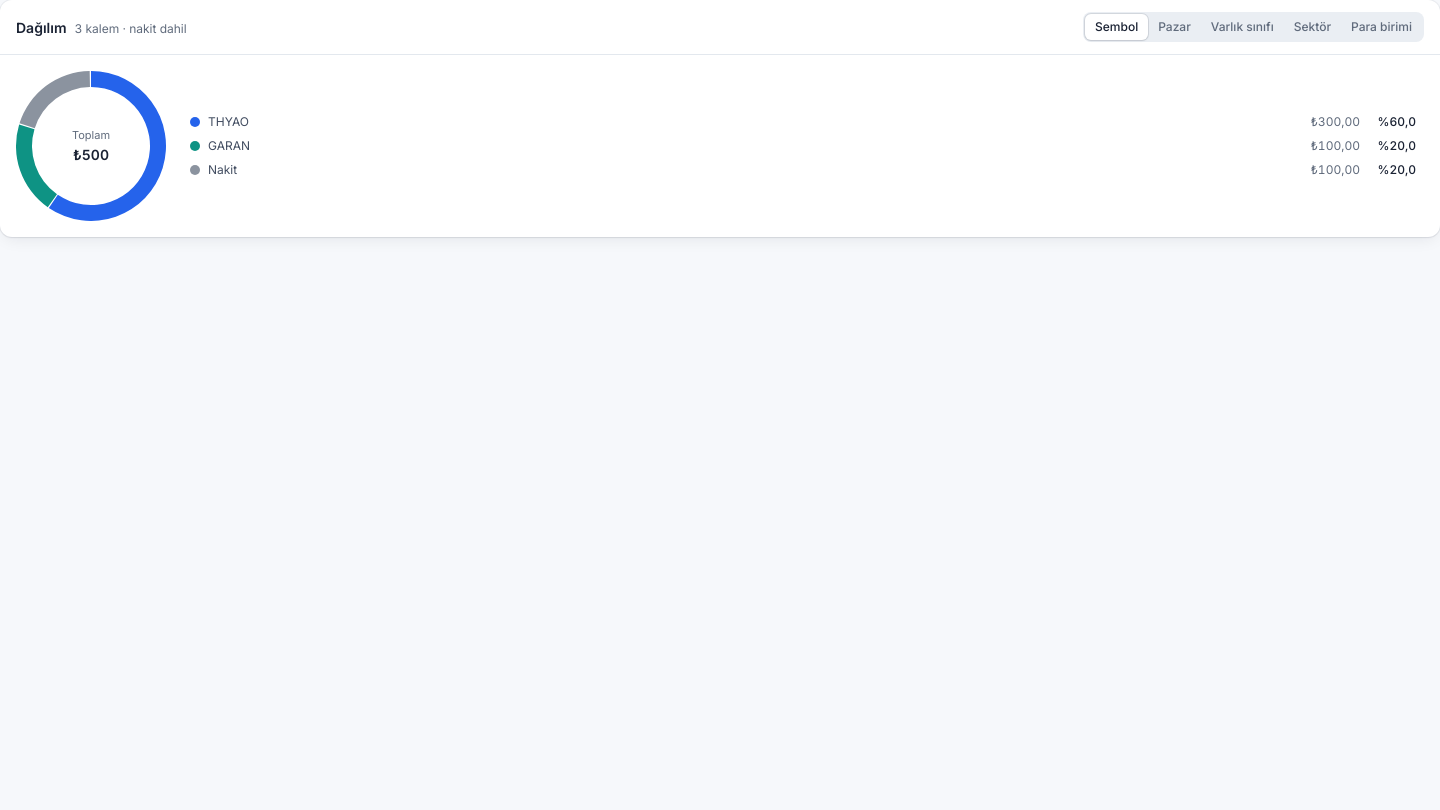
Test case: Allocation › shows the target and drift in the asset class view and opens the target dialog
The image size is (1440, 810).
Check: the button "Hedef belirle" is not shown
Click the radio button labelled "Varlık sınıfı".
click(1242, 27)  # box [1201, 14, 1284, 40]
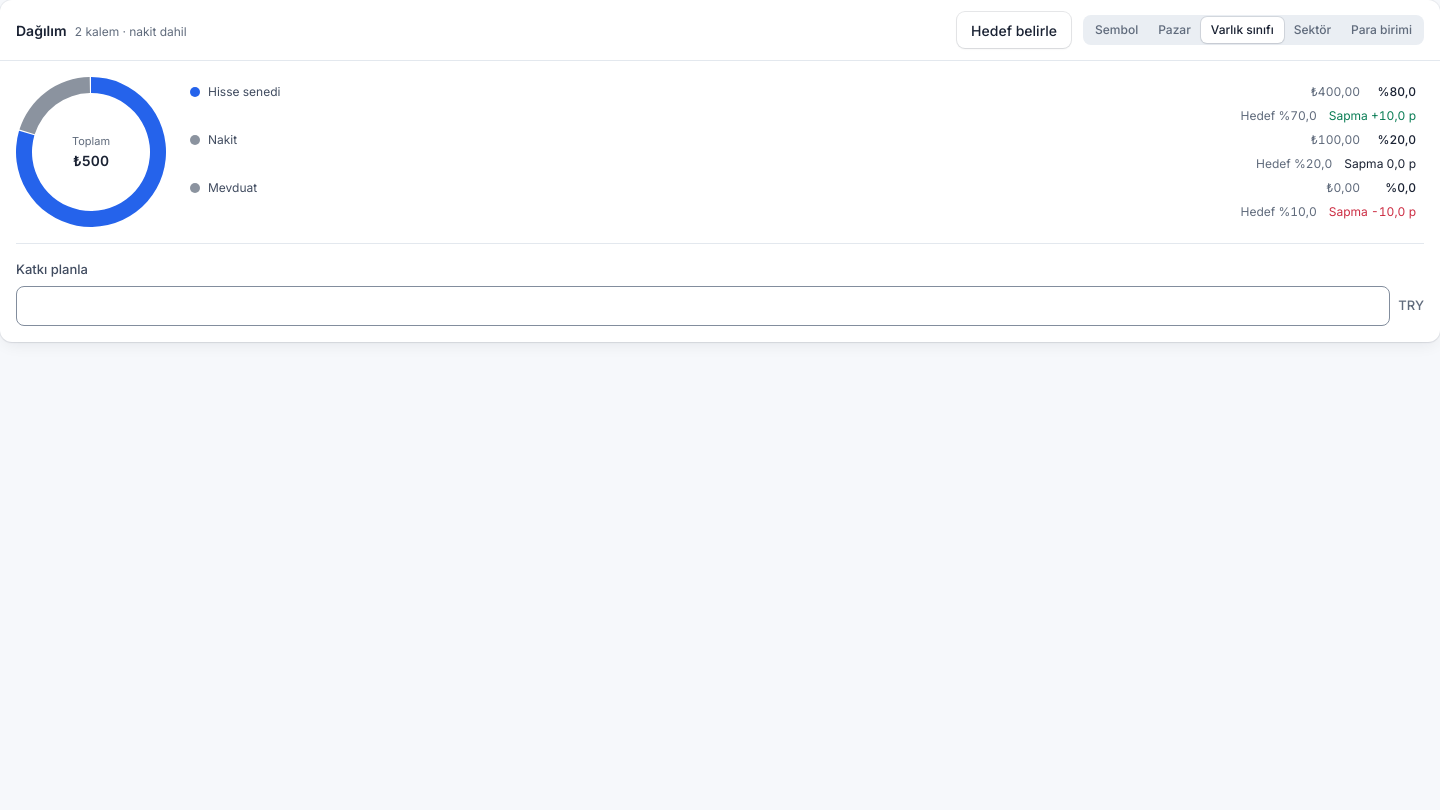
Check: the list item "Hisse senedi ₺400,00 %80,0 Hedef %70,0 Sapma +10,0 p" is shown, box [182, 80, 1424, 128]
Check: the list item "Nakit ₺100,00 %20,0 Hedef %20,0 Sapma 0,0 p" is shown, box [182, 128, 1424, 176]
Check: the list item "Mevduat ₺0,00 %0,0 Hedef %10,0 Sapma -10,0 p" is shown, box [182, 176, 1424, 224]
Click the button "Hedef belirle".
click(1014, 30)  # box [957, 12, 1071, 48]
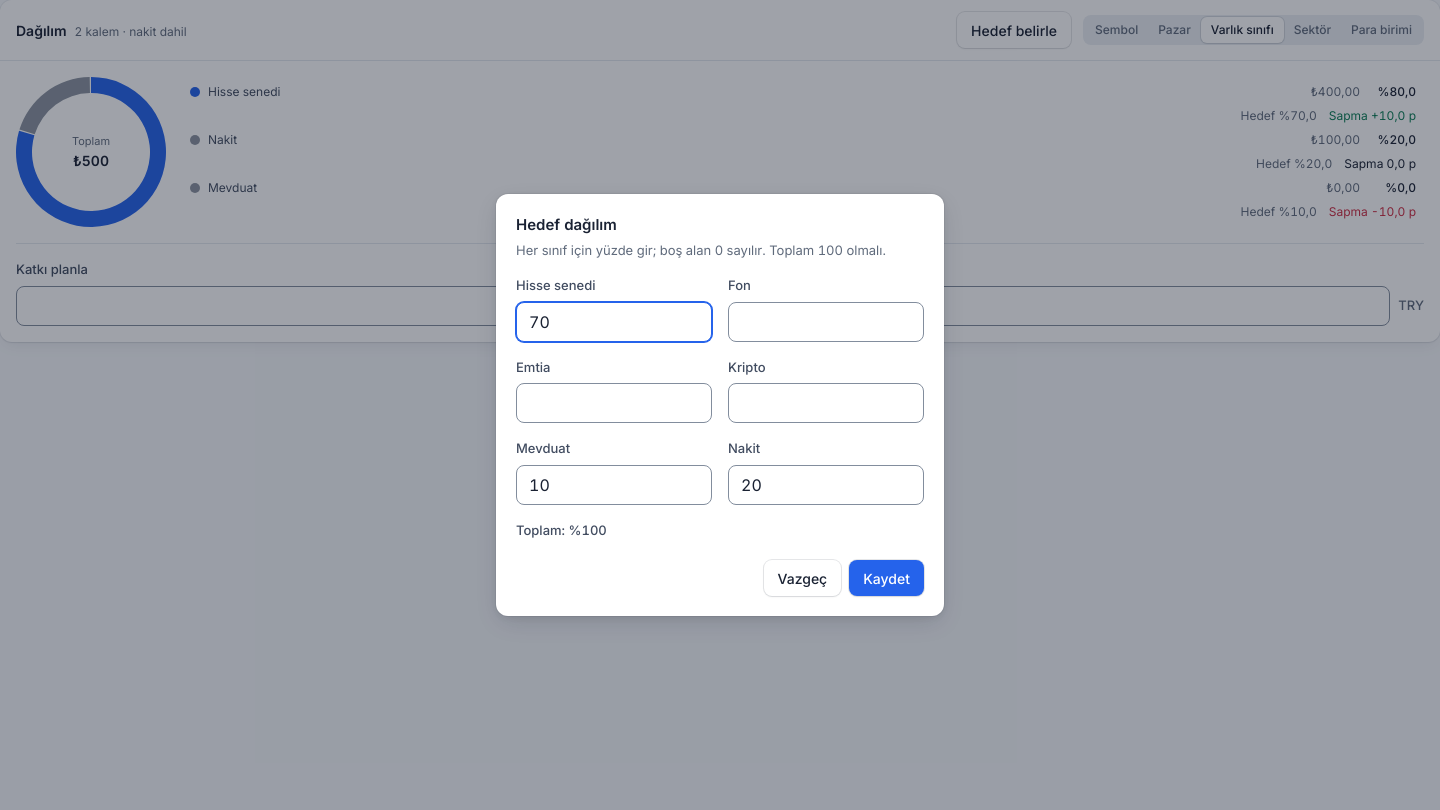
Check: the text "Toplam: %100" is shown, box [516, 522, 607, 538]
Check: the button "Kaydet" is enabled, box [849, 560, 924, 596]
Replace the text in the field labelled "Hisse senedi" with "60" at (614, 322), box [516, 302, 712, 342]
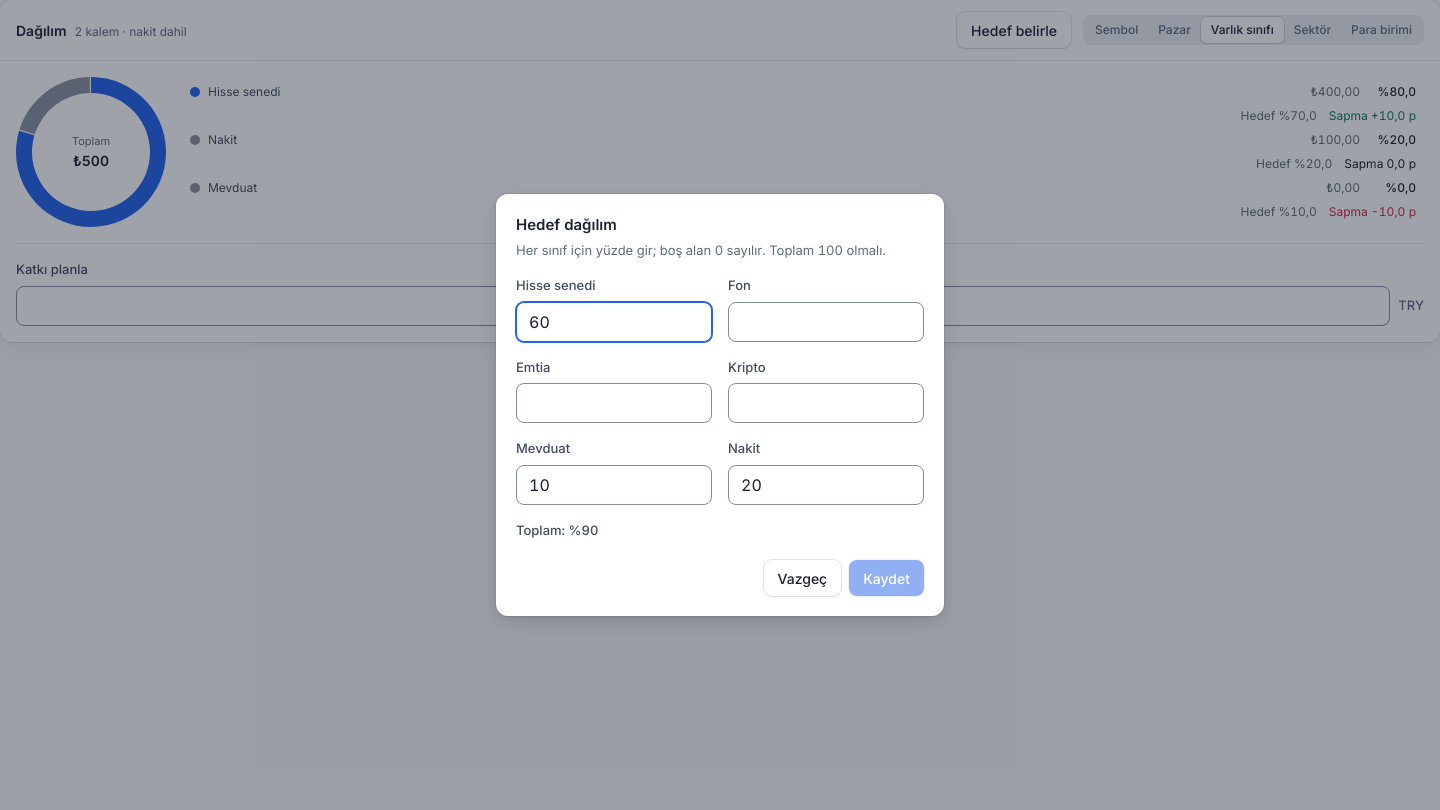
Check: the text "Toplam: %90" is shown, box [516, 522, 598, 538]
Check: the button "Kaydet" is disabled, box [849, 560, 924, 596]
